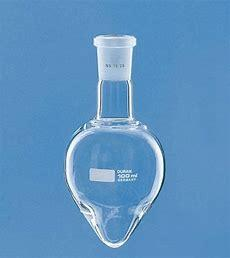Pear shaped flask: (65, 19, 165, 247)
